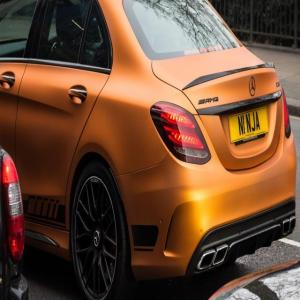Plate: (229, 106, 269, 142)
